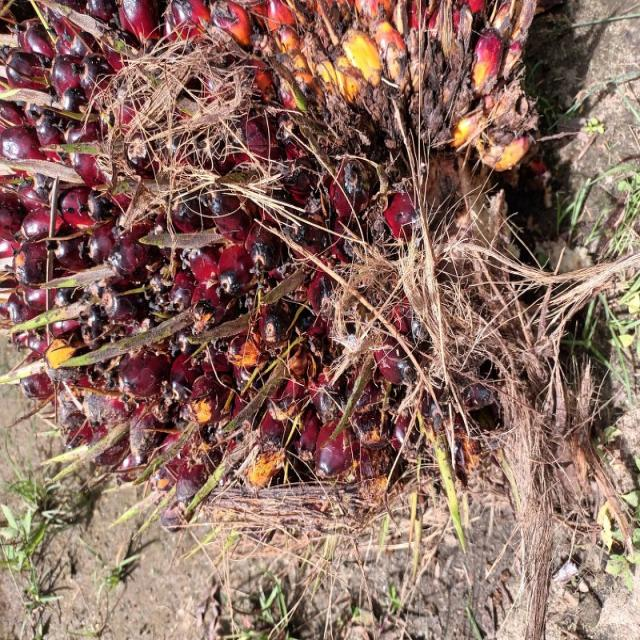fraksi 1: (56, 2, 480, 640)
